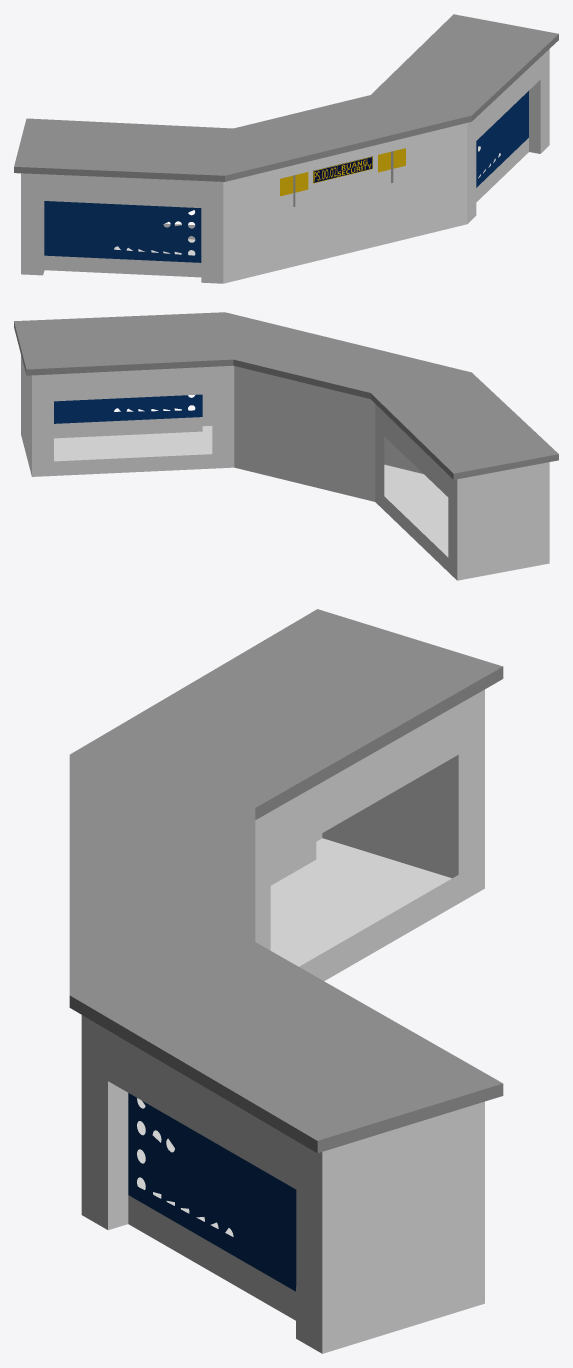
File: meja security2.fbx
3 renders of one model, top to bottom at view 1: azimuth 30°, elevation 25°; view 2: azimuth 150°, elevation 25°; view 3: azimuth 270°, elevation 25°, orthographic. The views are drawn at different scales.
Visible parts, largest first — view 1: Cube, Cube.001, Plane, Plane.001; view 2: Cube; view 3: Cube.
Boxes of the visible parts, x1,y1,x2,y2 form: Cube: [14, 14, 558, 283]; Cube.001: [313, 156, 372, 183]; Plane: [280, 172, 308, 196]; Plane.001: [378, 148, 405, 172]; Cube: [14, 312, 558, 580]; Cube: [69, 609, 503, 1353].
Size of the model in its own units: 1548 by 300 by 533.
